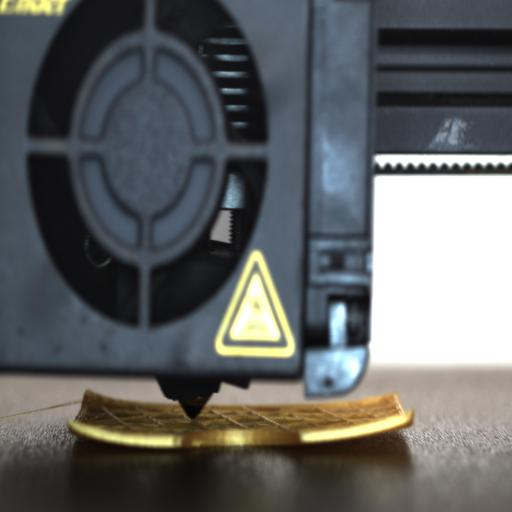warp: (300, 404, 412, 444), (68, 412, 174, 447)
